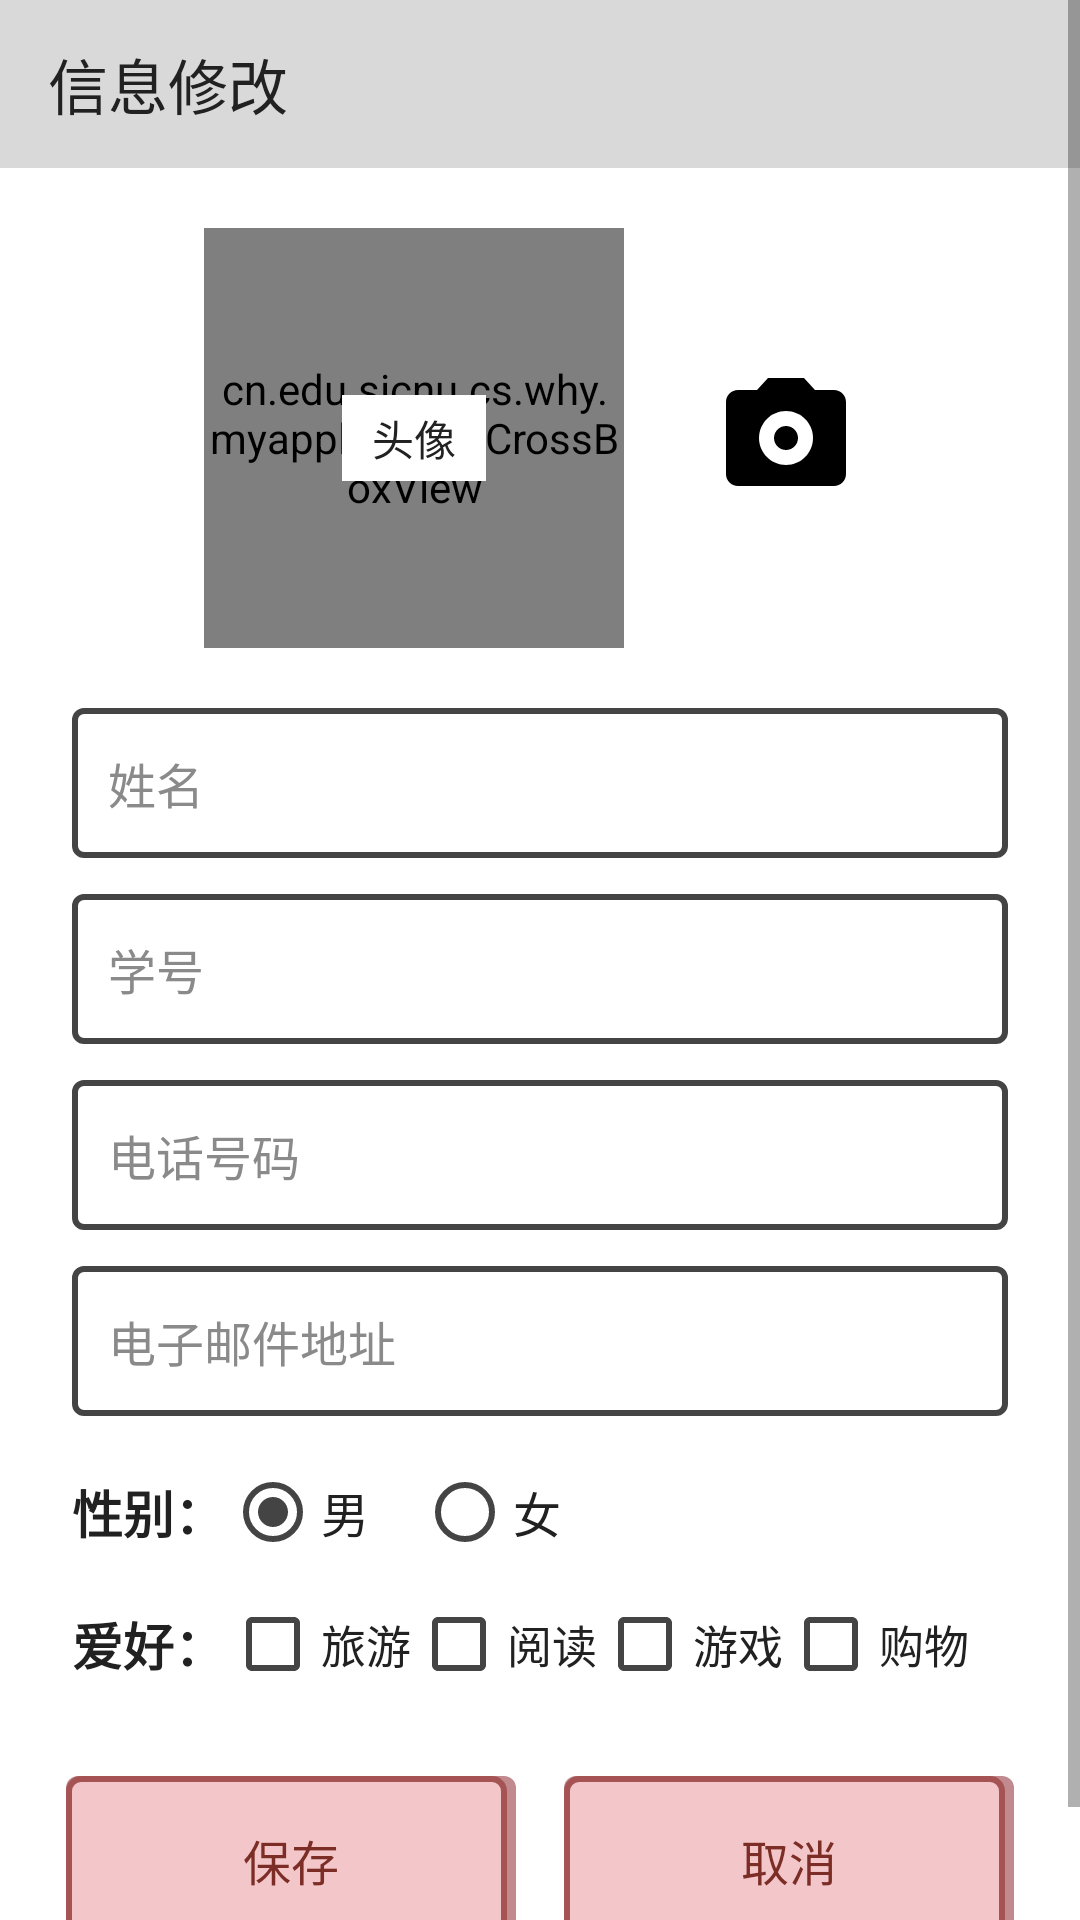

Icon bounding boxes for this 1080*1920 phone screenshot, format box=[x1, y1, x2, y2]:
选择头像: box=[726, 378, 846, 486]
